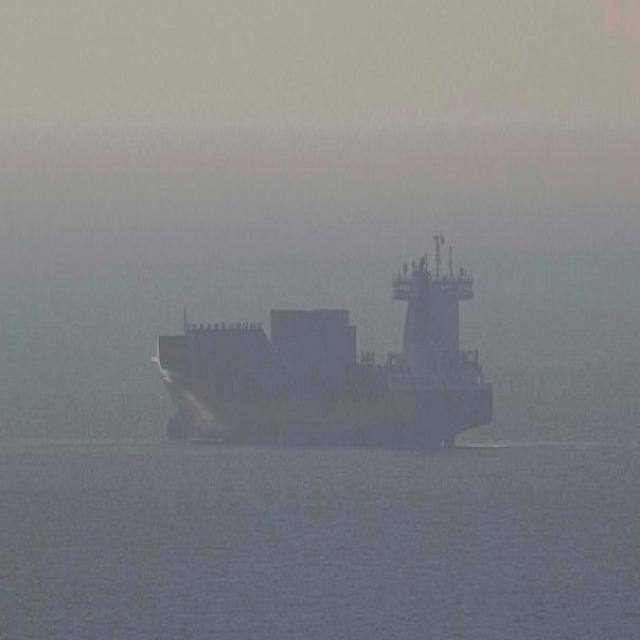cargoship: (153, 244, 491, 455)
